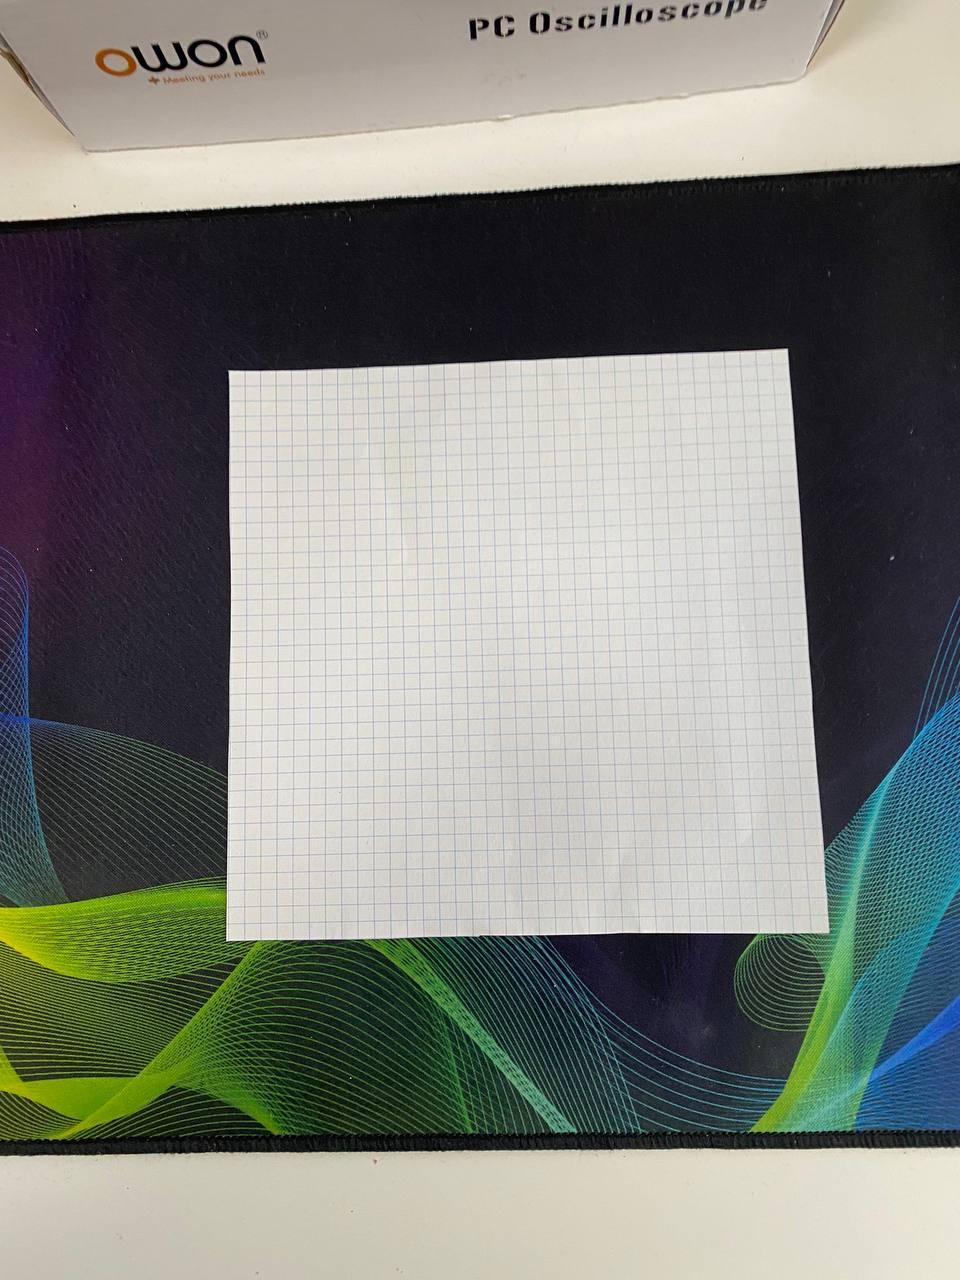grid: (203, 338, 847, 964)
